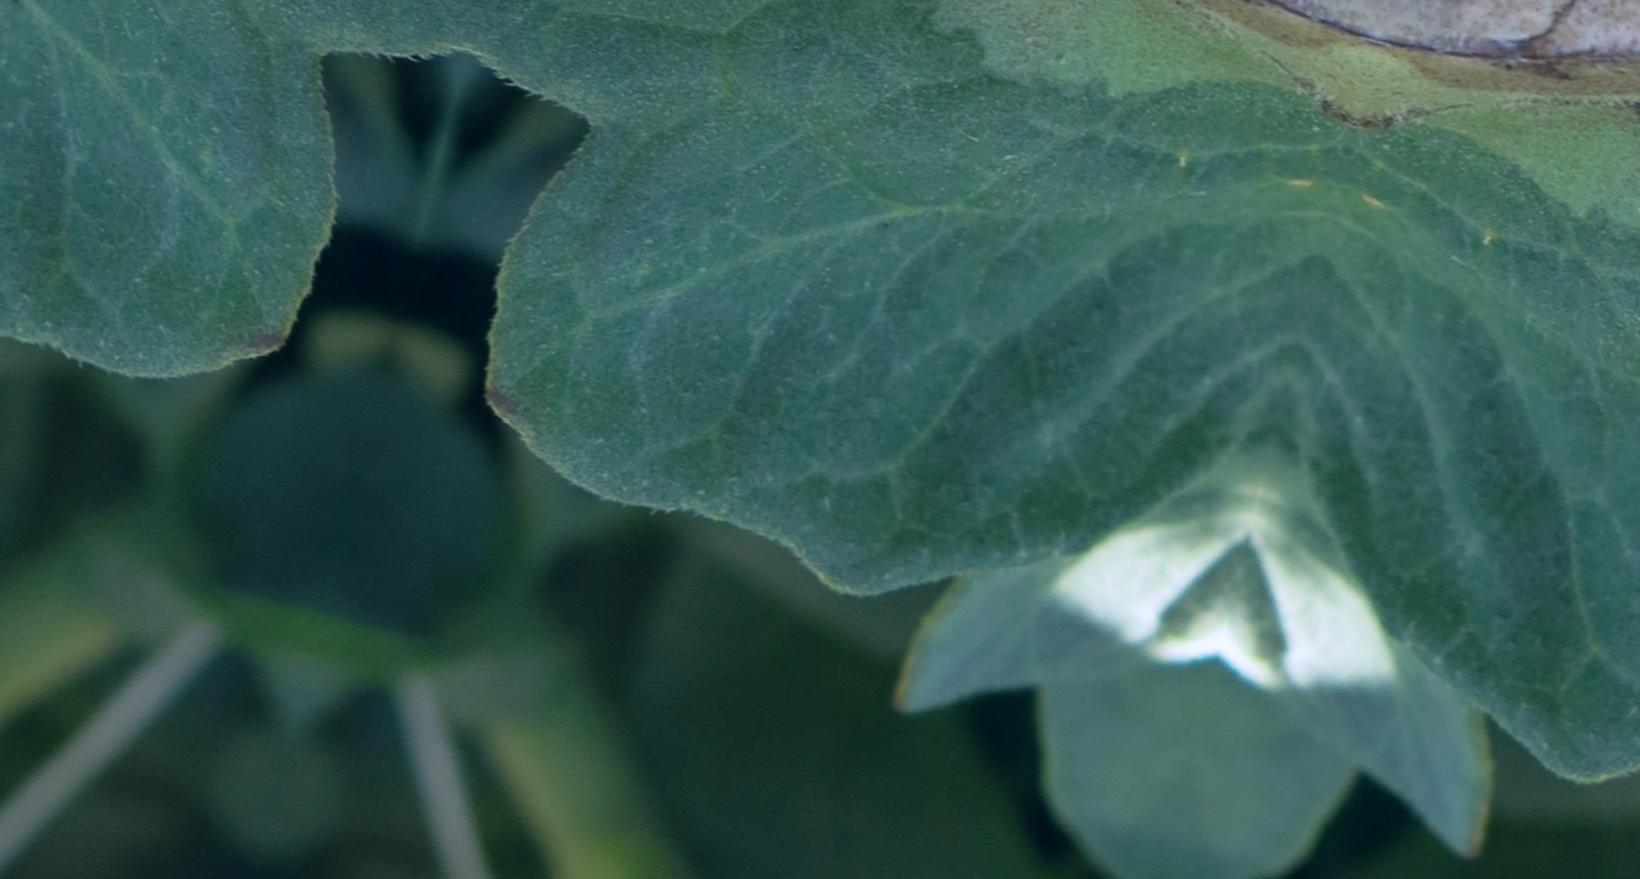Tomato leaf late blight: (308, 0, 1450, 879)
